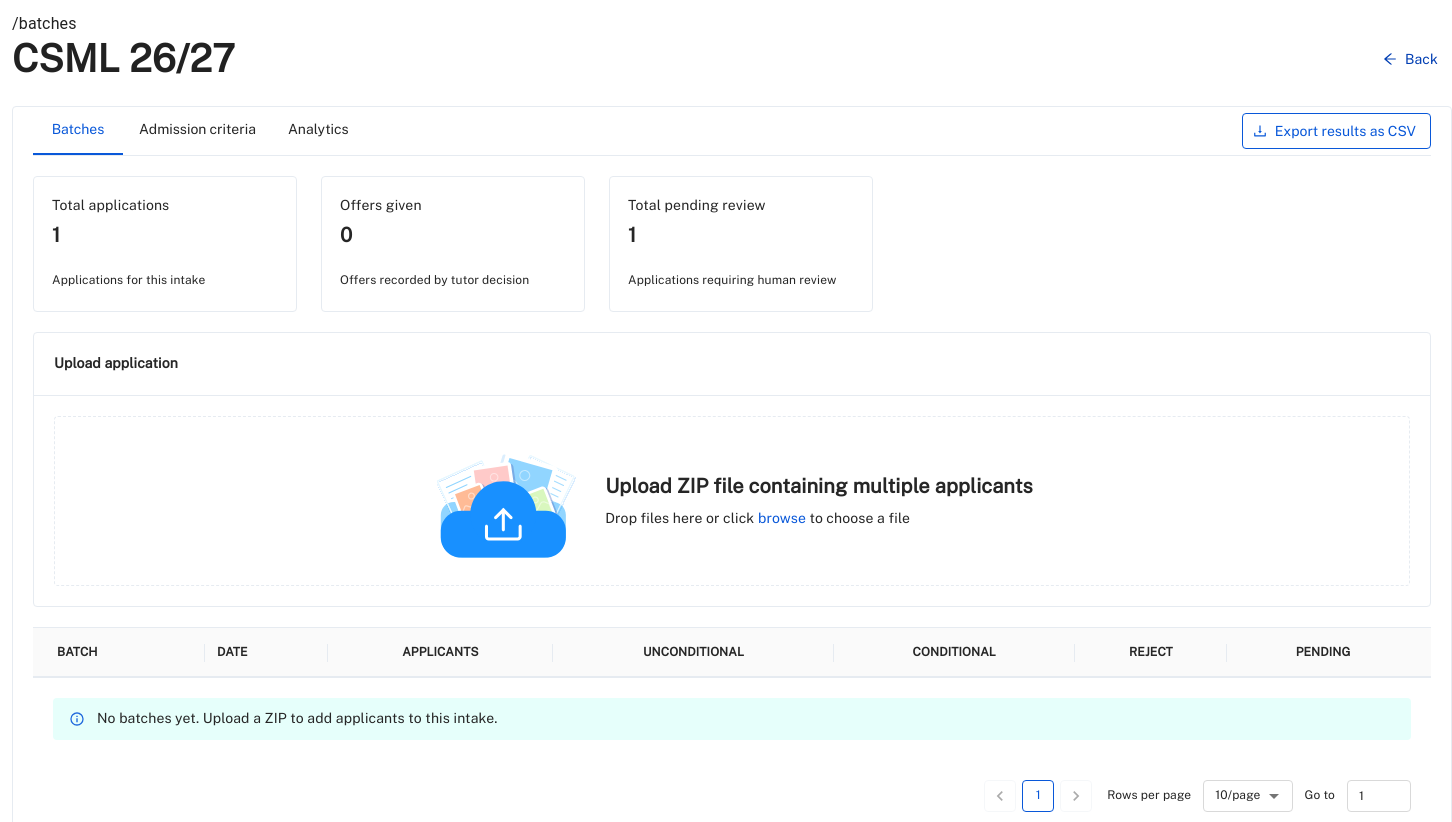
Test: intake upload batches › keeps unclassified legacy tutor offers pending without changing their stored outcome
The width and height of the screenshot is (1452, 822).
Check: the text "0" is shown, box [340,221,352,249]
Check: the text "1" below "Total pending review" is shown, box [628,223,636,247]
Click the tab "Analytics" at (318, 130), box [272,107,365,153]
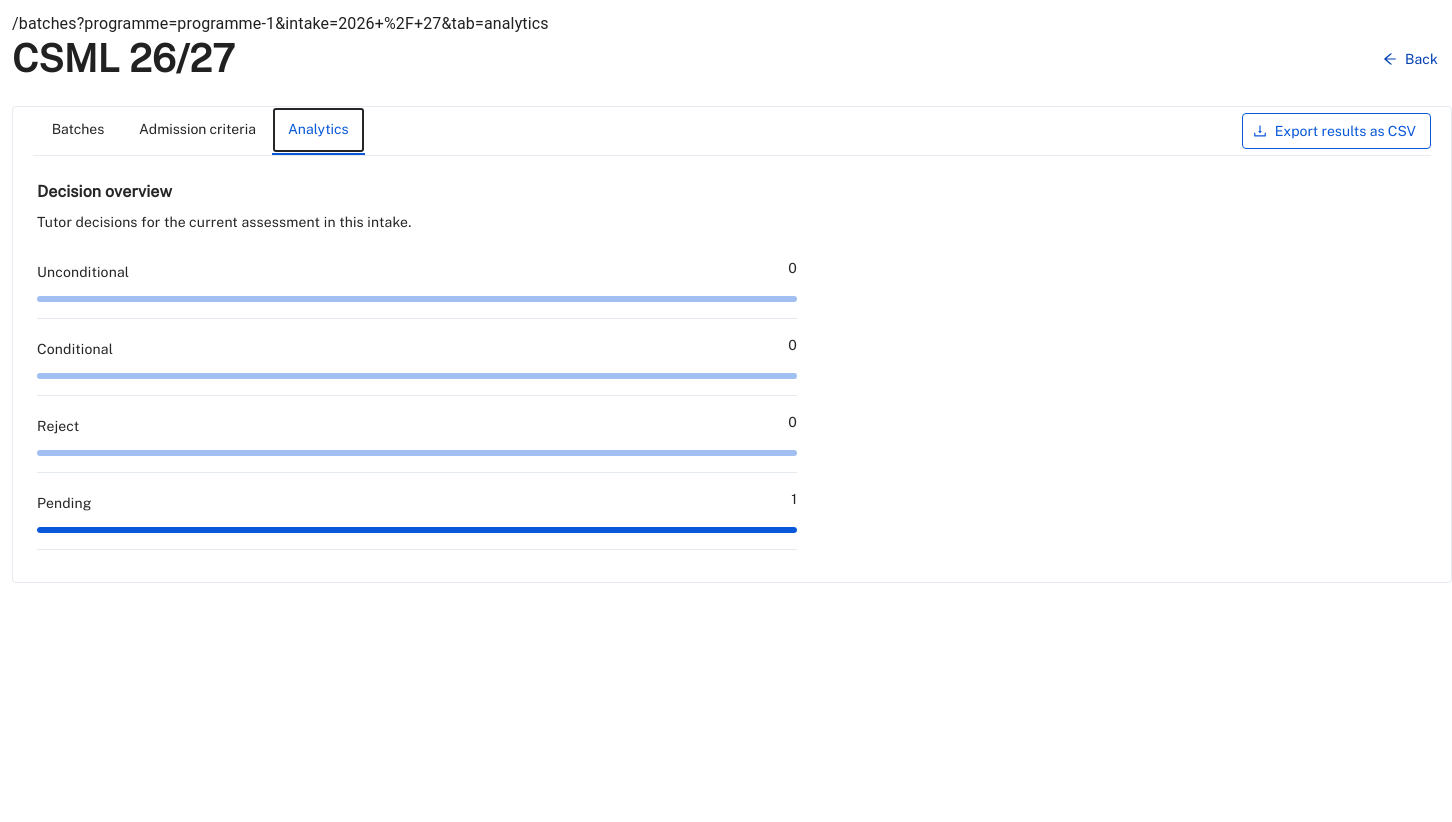
Check: the heading "Decision overview" is shown, box [37,182,172,201]
